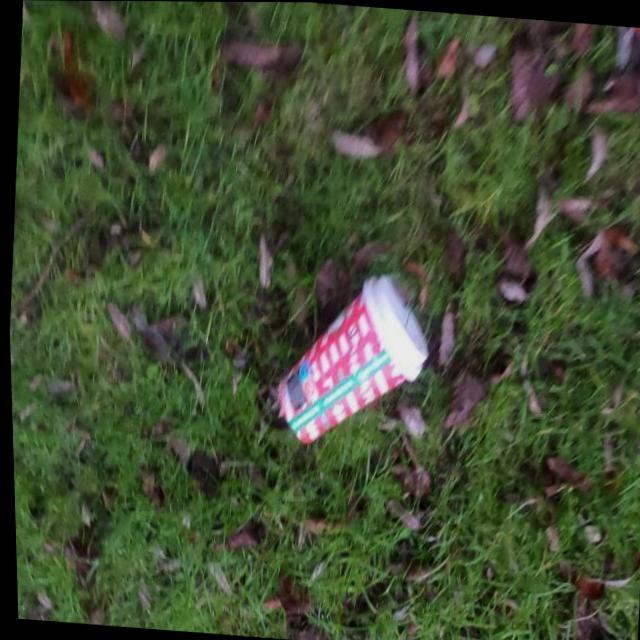Cup: (265, 262, 434, 452)
